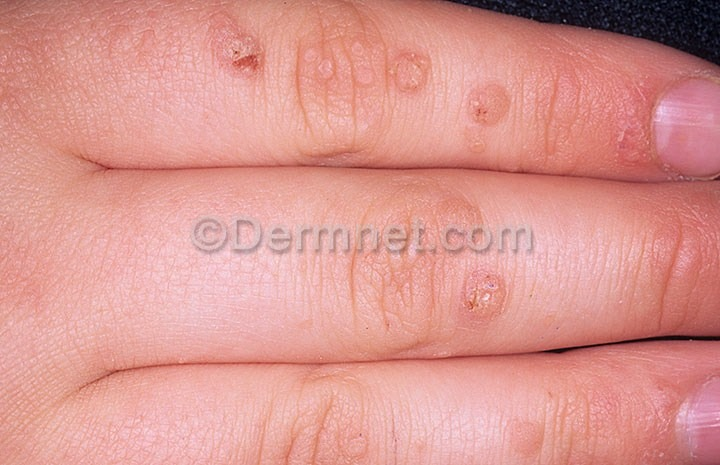Warts: (202, 6, 267, 86), (386, 42, 437, 102), (460, 80, 519, 131), (458, 266, 511, 322)
